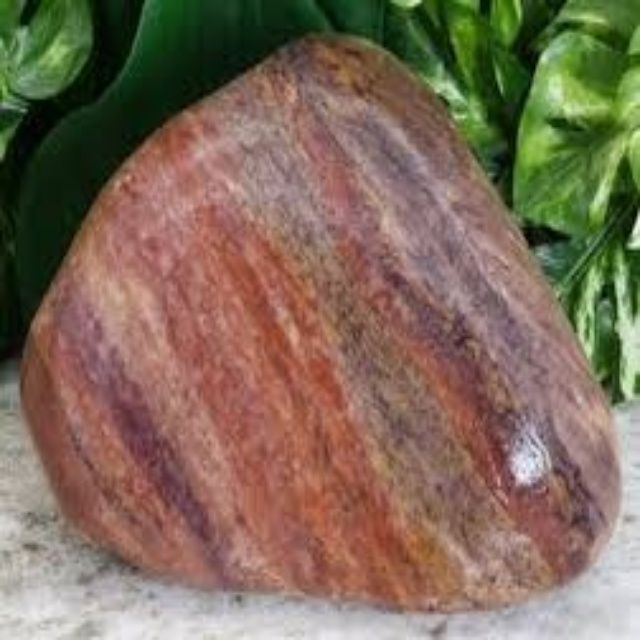obstacle: (23, 38, 617, 608)
